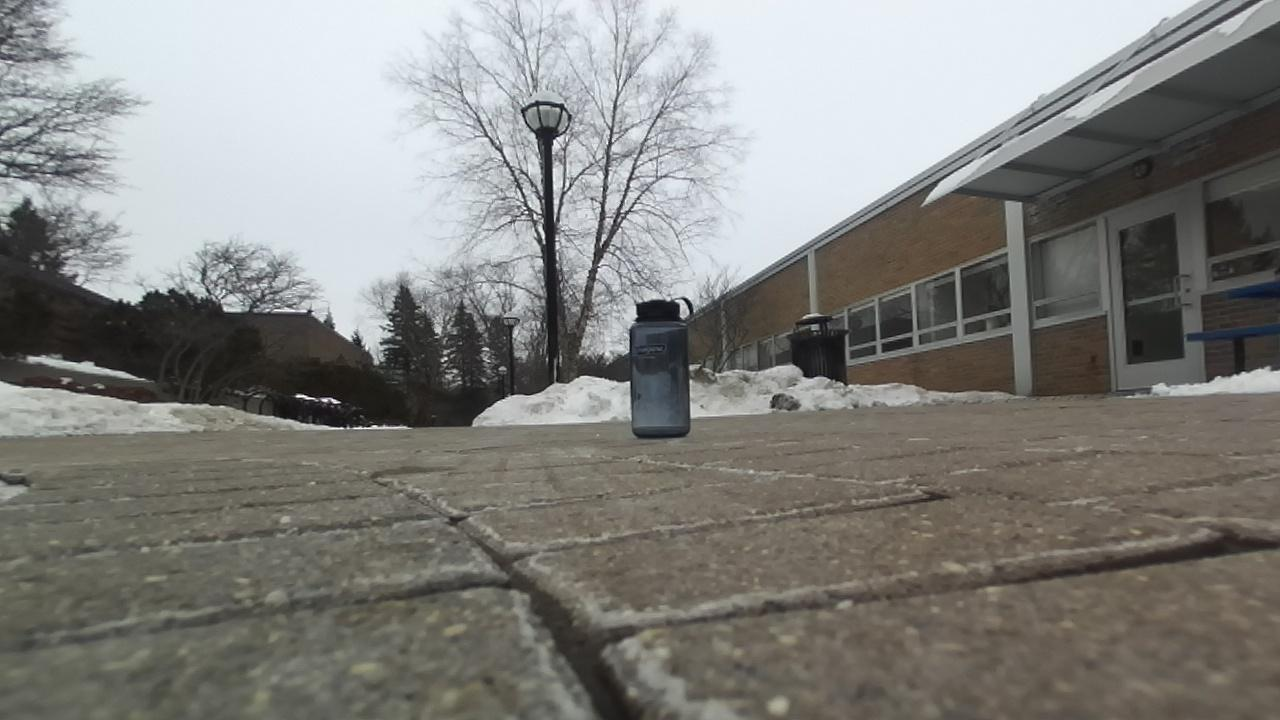bottle: (630, 297, 693, 437)
